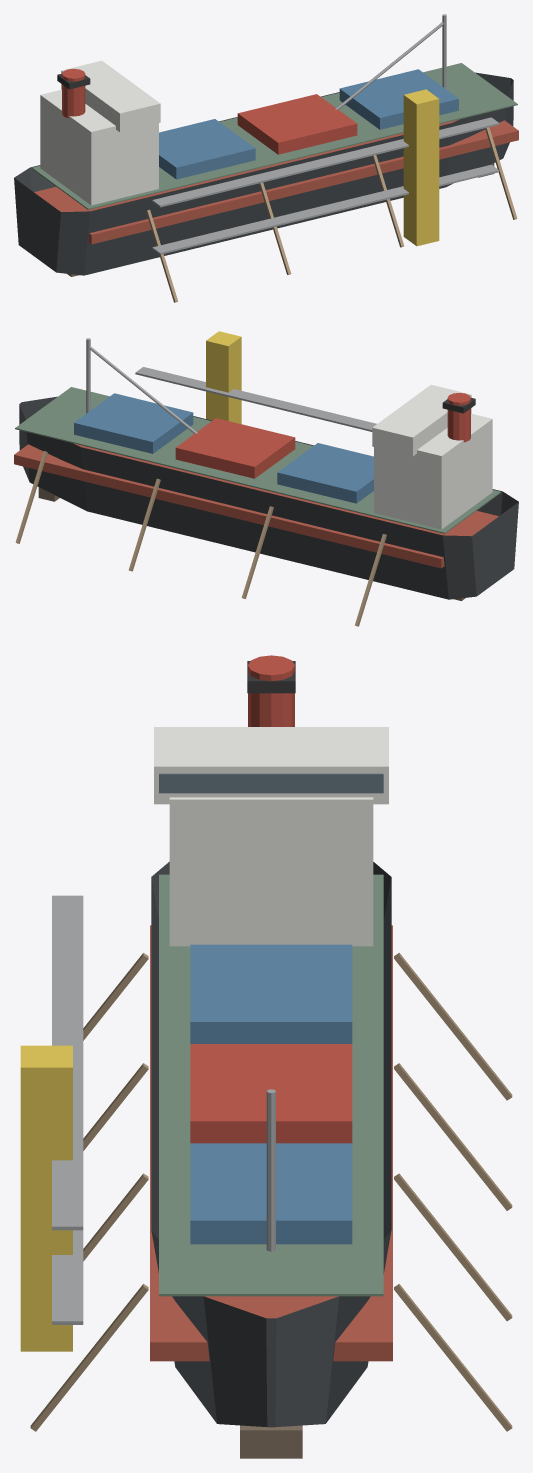
File: DryDockShip.glb
3 renders of one model, top to bottom at view 1: azimuth 30°, elevation 25°; view 2: azimuth 150°, elevation 25°; view 3: azimuth 270°, elevation 25°, orthographic. The views are drawn at different scales.
Parts seen in each view (by area): view 1: Hull.001, Bridge house.001, Main deck.001, Boot topping.001, Staging tower, Hatch.004, Hatch.003, Hatch.005, Wheelhouse.001, Staging deck.001, Staging deck, Funnel.001 (+6 smaller); view 2: Hull.001, Bridge house.001, Main deck.001, Boot topping.001, Hatch.004, Hatch.005, Hatch.003, Wheelhouse.001, Staging tower, Staging deck.001, Funnel.001, Member.005 (+5 smaller); view 3: Main deck.001, Bridge house.001, Hull.001, Hatch.003, Hatch.004, Hatch.005, Staging tower, Wheelhouse.001, Boot topping.001, Staging deck.001, Bridge glass.001, Funnel.001 (+8 smaller).
Part boxes in pixels (<box>): Hull.001: <box>14,72,513,275</box>; Bridge house.001: <box>40,89,158,205</box>; Main deck.001: <box>32,63,517,209</box>; Boot topping.001: <box>34,119,518,244</box>; Staging tower: <box>403,89,439,246</box>; Hatch.004: <box>237,94,357,154</box>; Hatch.003: <box>159,119,255,179</box>; Hatch.005: <box>339,69,458,129</box>; Wheelhouse.001: <box>61,60,160,132</box>; Staging deck.001: <box>152,117,499,207</box>; Staging deck: <box>152,164,499,254</box>; Funnel.001: <box>62,68,85,118</box>; Hull.001: <box>19,396,518,599</box>; Bridge house.001: <box>374,413,492,529</box>; Main deck.001: <box>15,387,500,533</box>; Boot topping.001: <box>14,443,498,568</box>; Hatch.004: <box>175,418,295,478</box>; Hatch.005: <box>74,393,193,453</box>; Hatch.003: <box>277,443,373,503</box>; Wheelhouse.001: <box>372,384,471,456</box>; Staging tower: <box>206,331,241,424</box>; Staging deck.001: <box>135,367,376,431</box>; Funnel.001: <box>447,392,470,442</box>; Member.005: <box>89,346,197,433</box>; Main deck.001: <box>159,874,383,1296</box>; Bridge house.001: <box>169,797,373,946</box>; Hull.001: <box>151,861,391,1427</box>; Hatch.003: <box>190,944,352,1043</box>; Hatch.004: <box>190,1044,352,1143</box>; Hatch.005: <box>190,1143,352,1244</box>; Staging tower: <box>20,1045,72,1351</box>; Wheelhouse.001: <box>154,727,388,804</box>; Boot topping.001: <box>150,925,392,1361</box>; Staging deck.001: <box>52,895,83,1230</box>; Bridge glass.001: <box>159,773,383,793</box>; Funnel.001: <box>248,655,294,726</box>.
Size of the model in its own units: 42 by 16.57 by 18.82.
